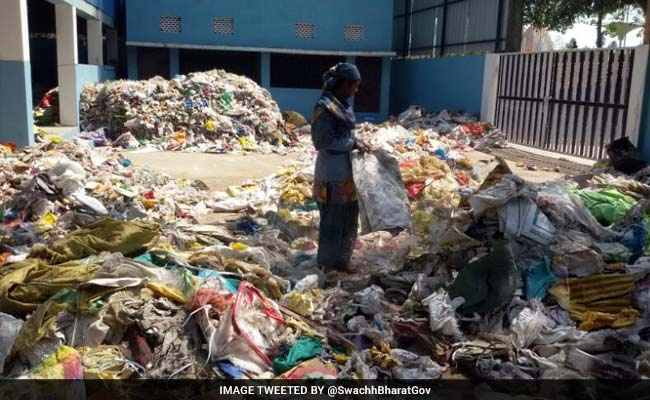plastic: (205, 274, 286, 374), (26, 213, 163, 268), (544, 268, 644, 331), (1, 257, 104, 318), (28, 152, 108, 212), (30, 344, 145, 379), (571, 182, 648, 230), (415, 286, 471, 340), (349, 229, 410, 277)
